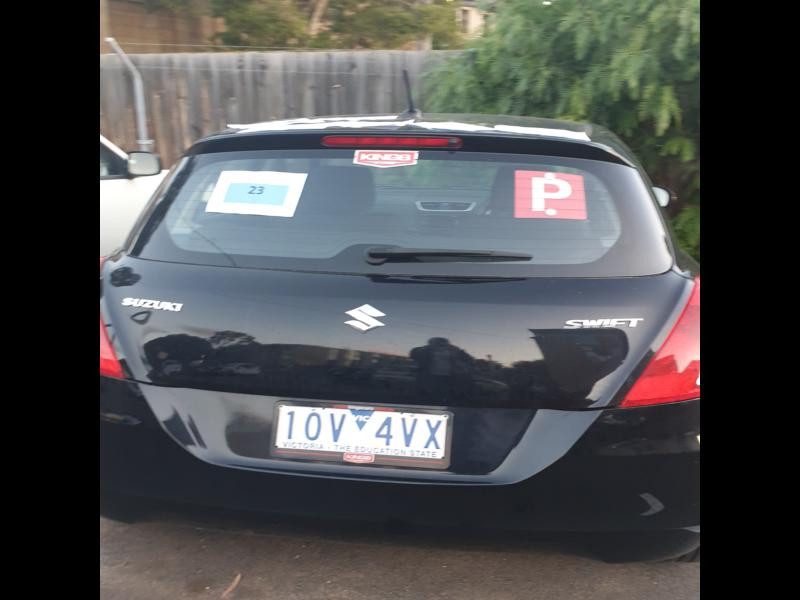BusRun: (223, 182, 287, 205)
PlateNo: (275, 406, 450, 458)
